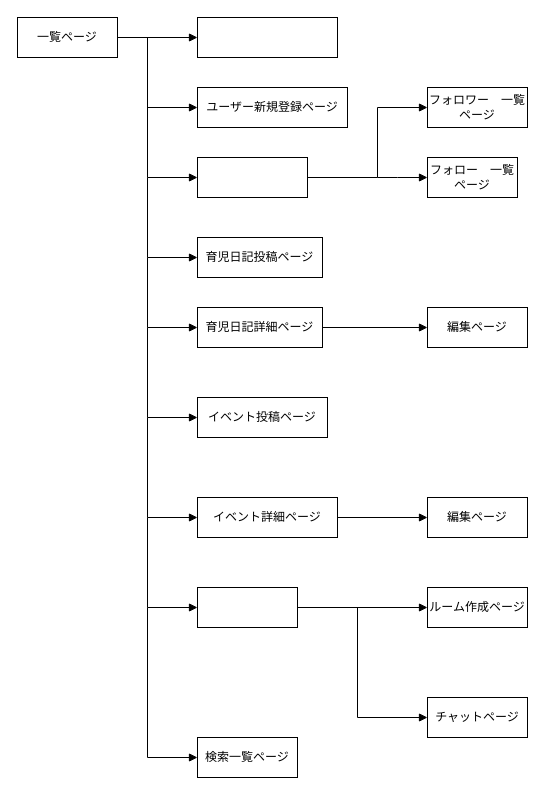
The diagram is 545 pixels wide and 795 high, and some of its shapes have lost their labels. The centre of each missing label's shape, as x and y in pixels:
ユーザーマイページ: the point at 252,177
ユーザーログインページ: the point at 267,37
ルーム ページ: the point at 247,607
